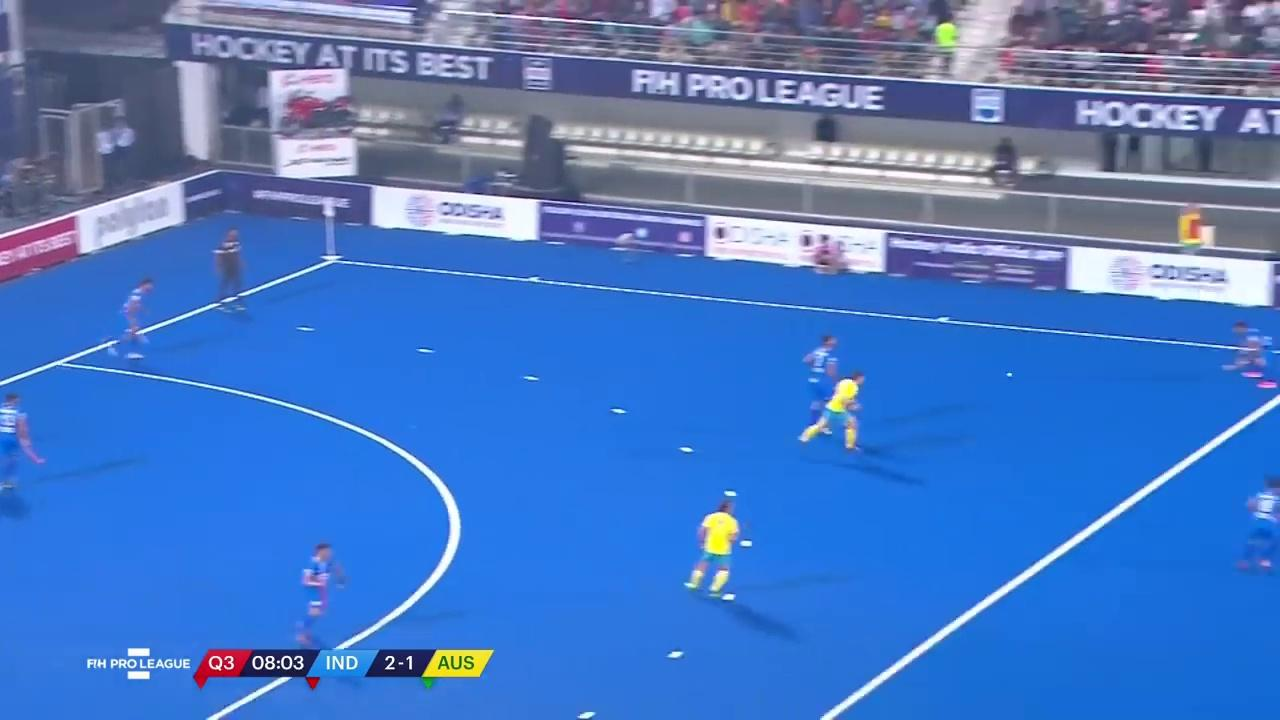ball: (1003, 370, 1014, 379)
